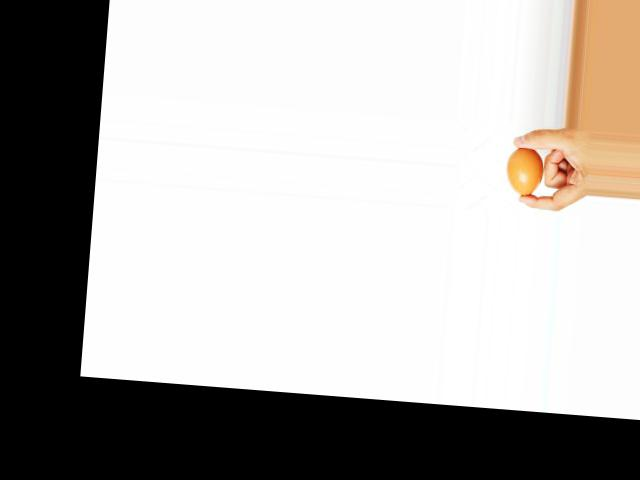egg: (503, 146, 545, 197)
